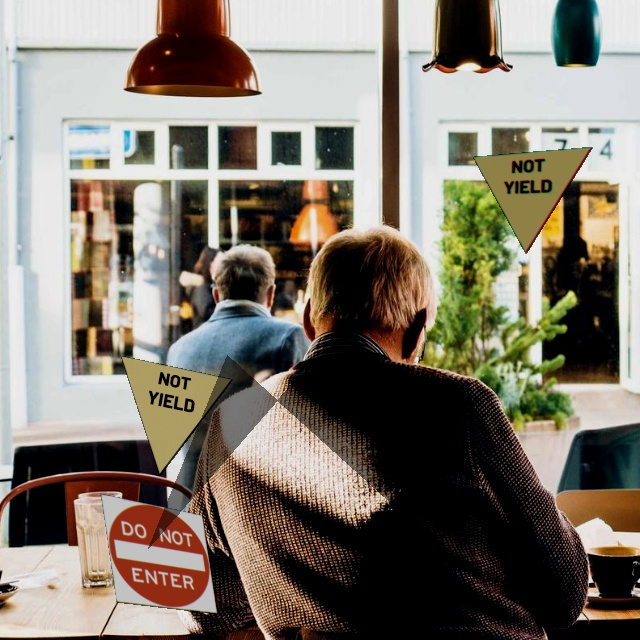DO_NOT_ENTER: (100, 493, 217, 614)
NOT_YIELD: (120, 355, 233, 476), (472, 146, 593, 254)
